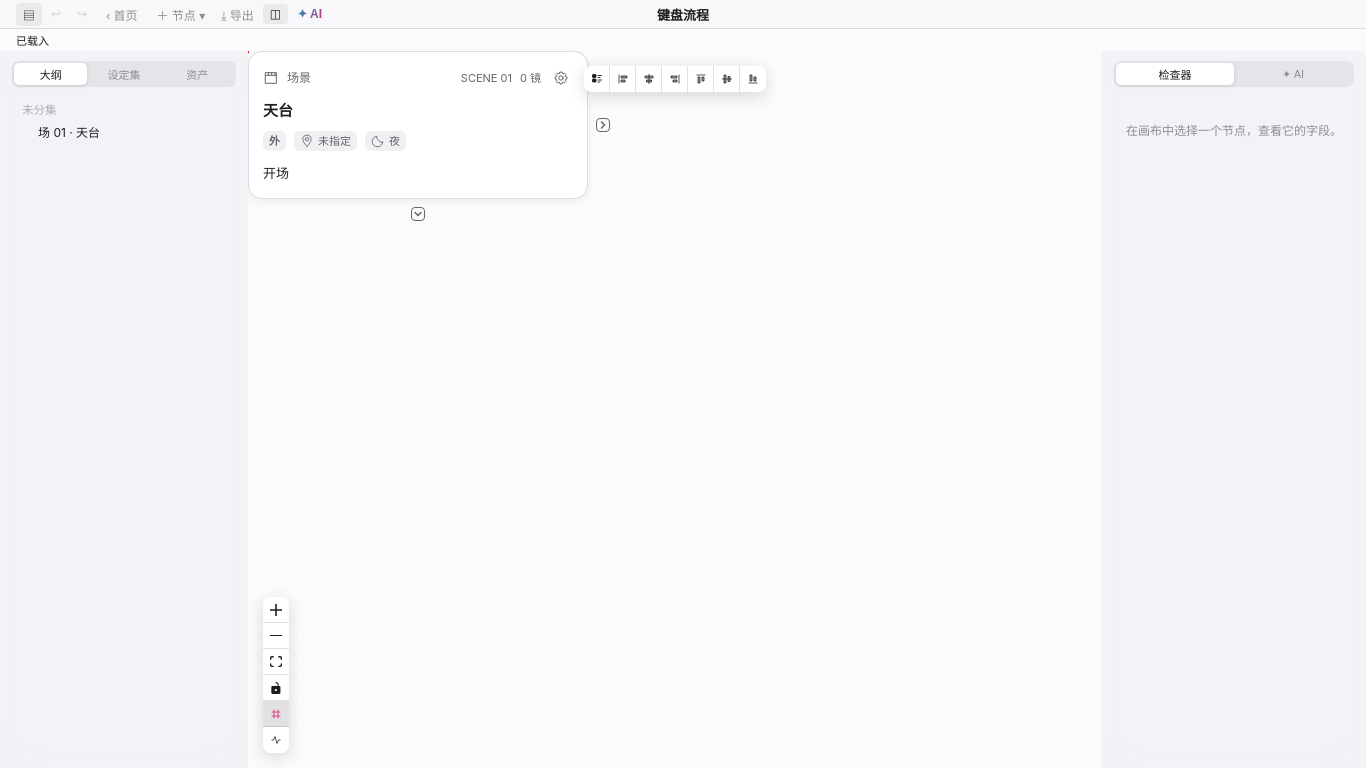
it: 编辑器键盘流程（issue #238） › 导出弹窗打开期间 Delete 不改写背景，关闭后恢复生效（issue #263 评审）
Press Enter in the element with test id "rf__node-sc1", box [248,51,368,111]
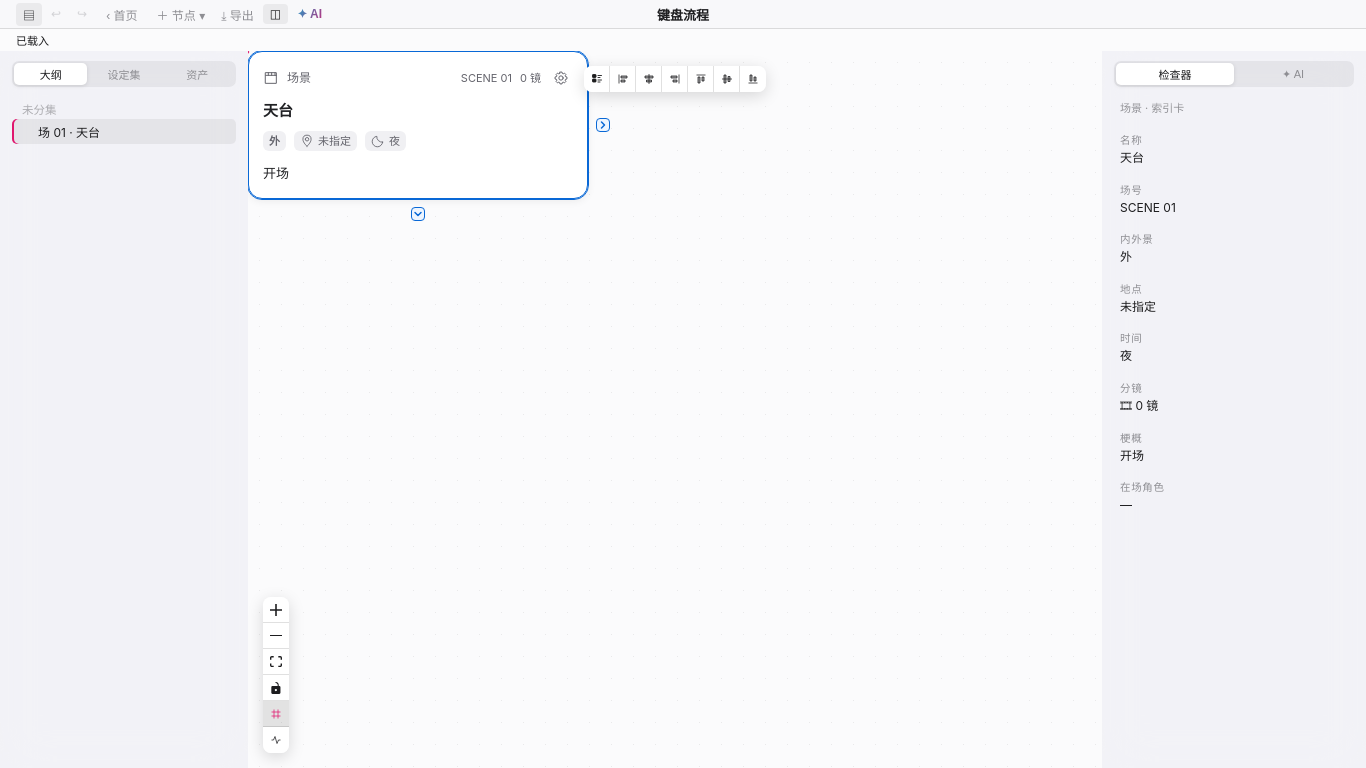
Click the button with aria-label "导出剧本" at (238, 14), box [214,2,261,26]
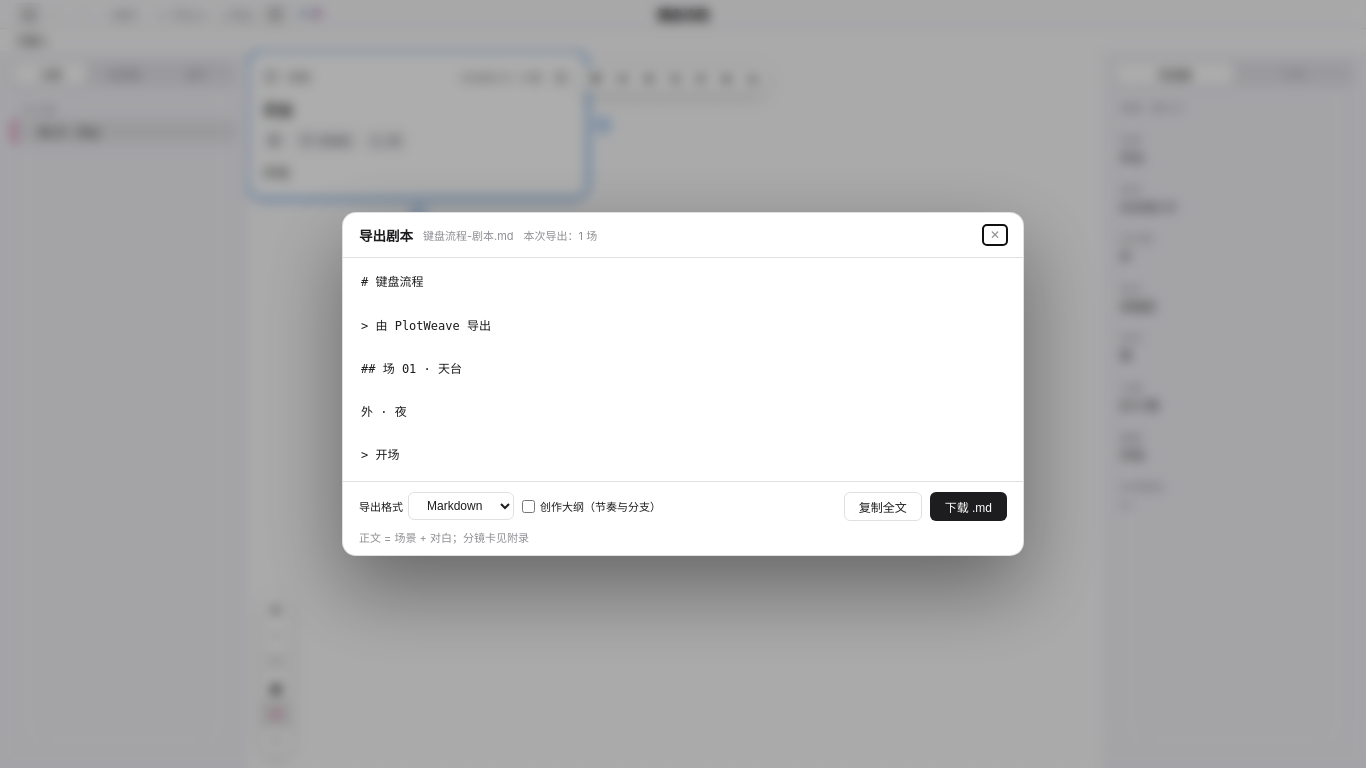
Now the dialog "导出剧本" is shown, box [342,212,1024,556]
Press Delete
Expected: the button "场 01 · 天台" is shown, [12,119,236,144]
Expected: the element with test id "rf__node-sc1" is shown, [248,51,368,111]
Press Escape
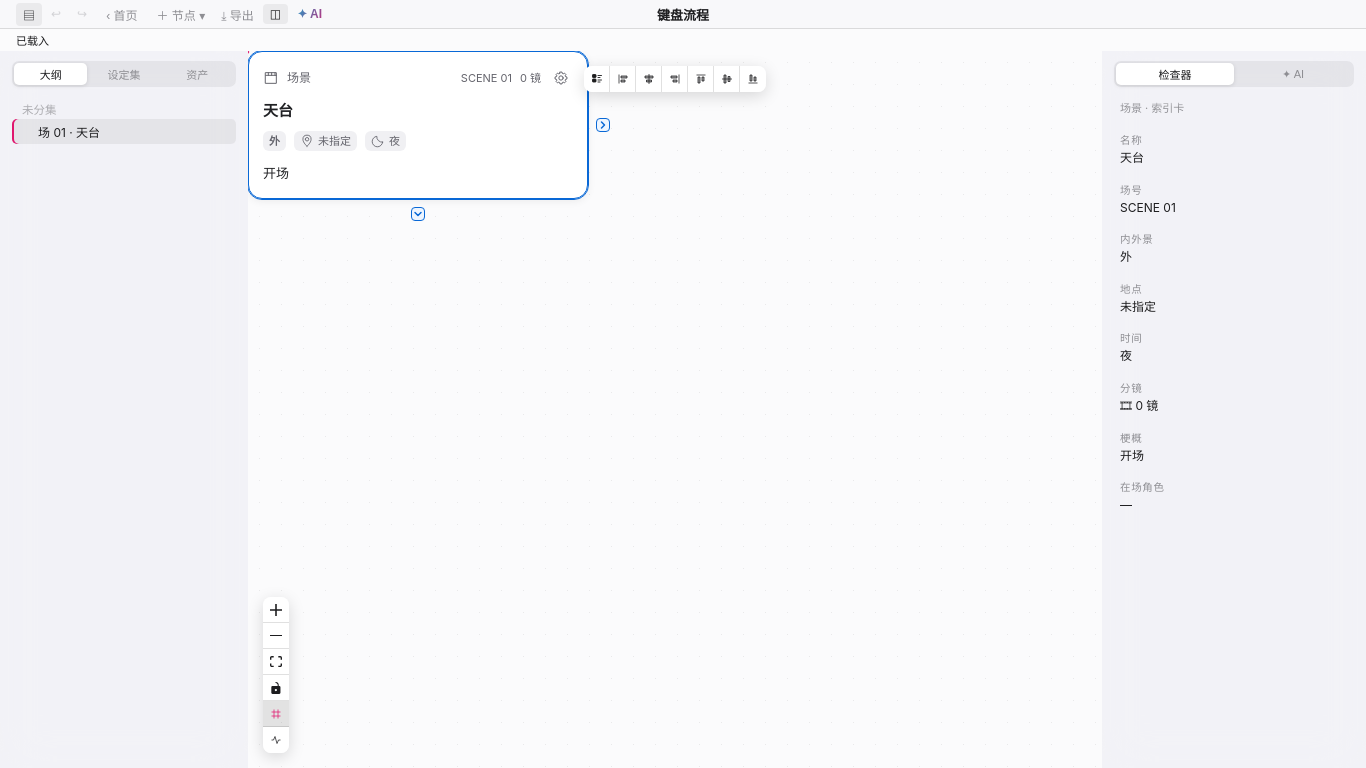
Now the dialog is gone
Press Delete
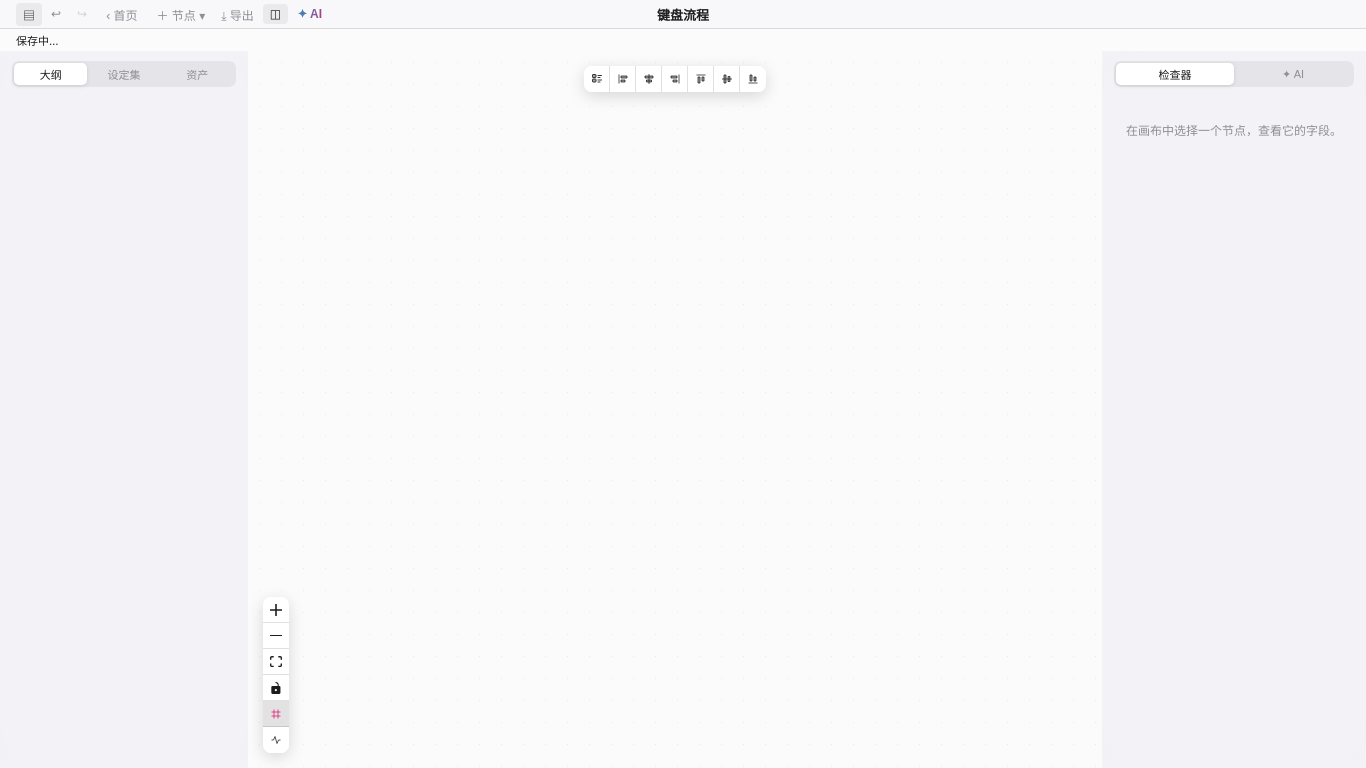
Now the button "场 01 · 天台" is gone
